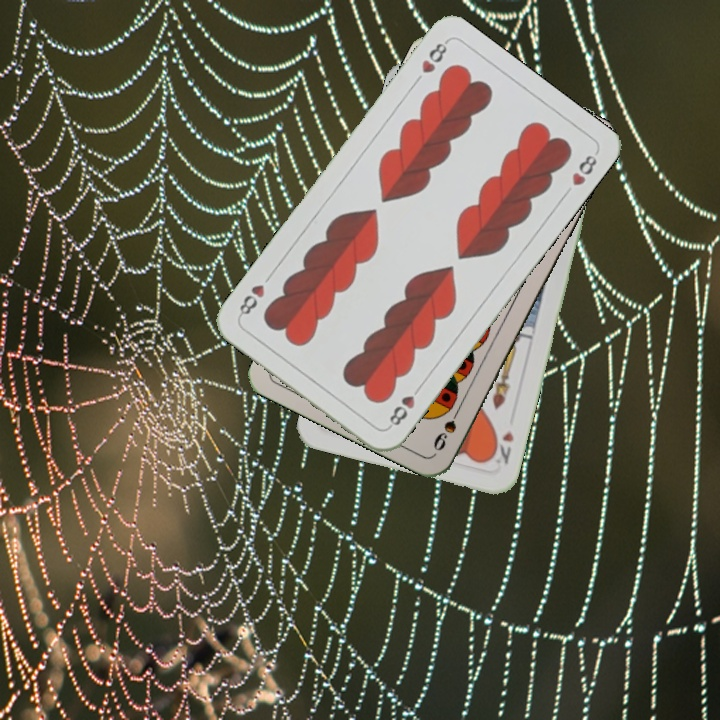H8: (384, 380, 425, 431), (417, 37, 450, 76)
HK: (486, 427, 517, 467)
S9: (429, 399, 465, 454)
